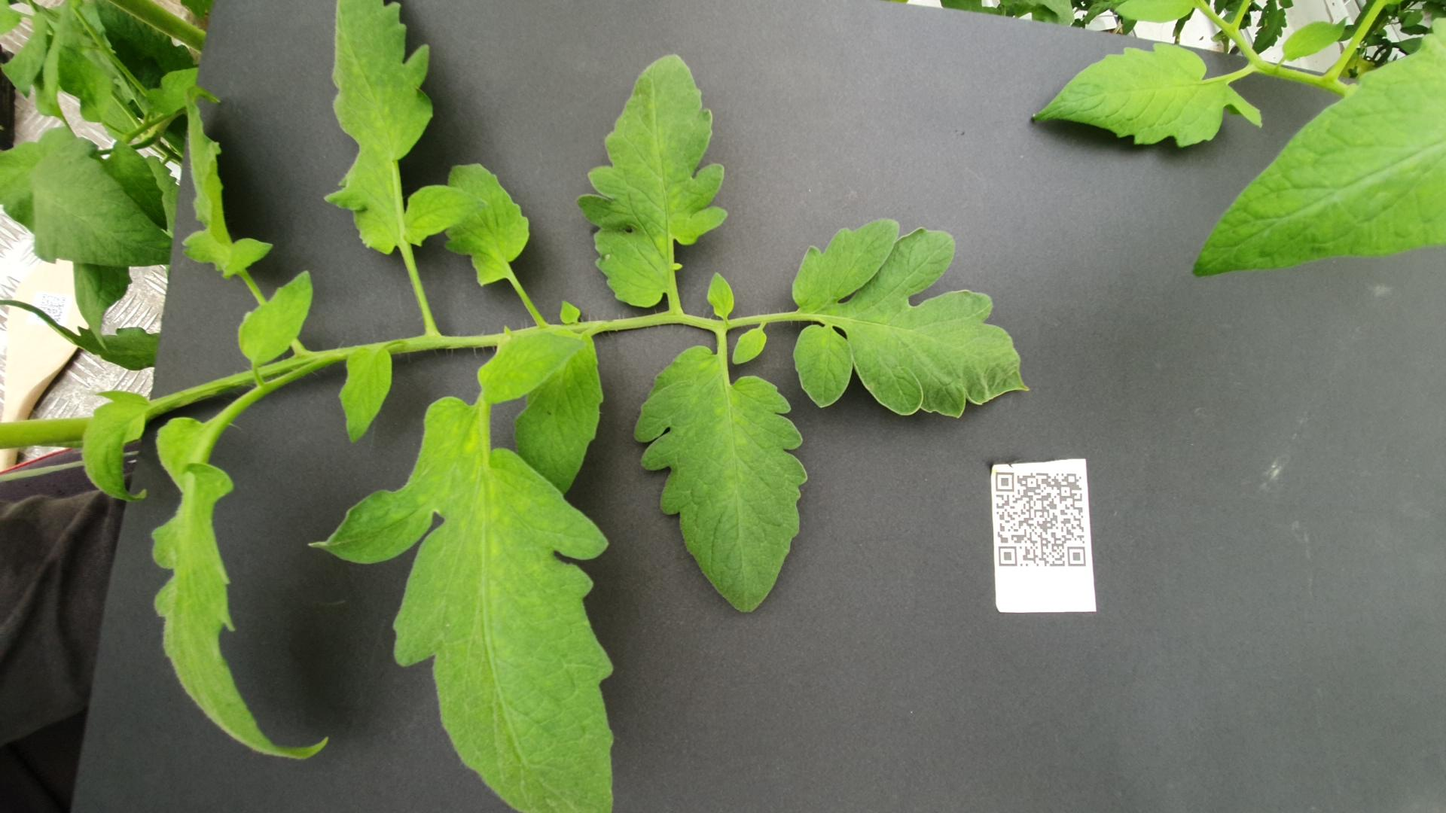Healthy: (952, 669, 1415, 813), (94, 85, 708, 185), (355, 355, 834, 456), (702, 445, 1059, 579), (992, 182, 1446, 275), (900, 323, 1355, 410), (1186, 579, 1372, 709), (971, 18, 1218, 97), (947, 100, 1293, 154), (935, 251, 1159, 299), (730, 267, 857, 332), (550, 45, 754, 84), (798, 133, 968, 177), (659, 191, 834, 221), (1335, 719, 1417, 758)
